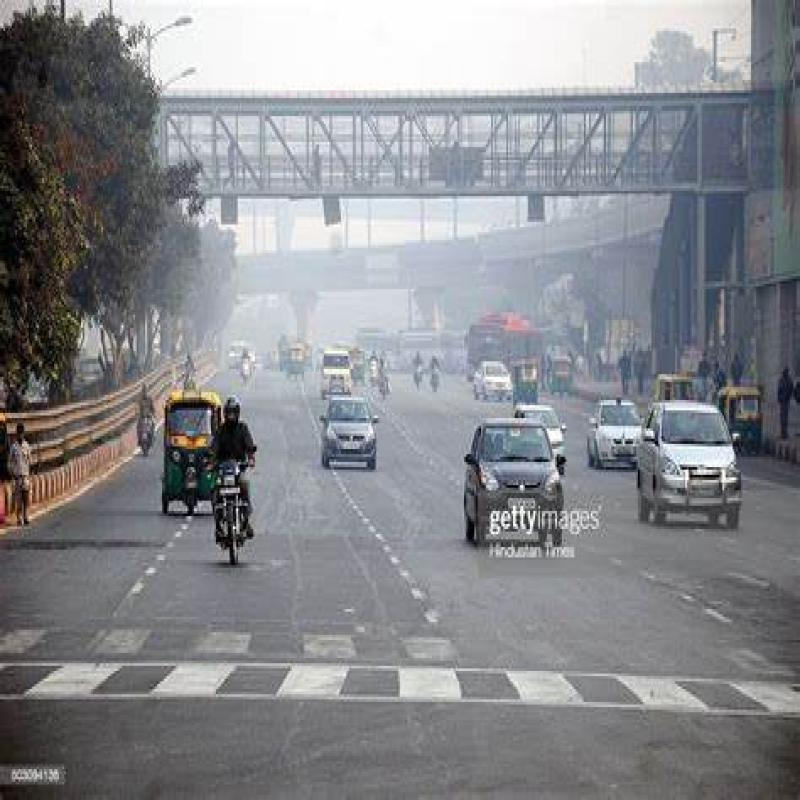auto: (160, 377, 213, 517)
bike: (212, 435, 252, 569)
car: (451, 419, 584, 566), (632, 393, 748, 533), (580, 378, 664, 492), (326, 393, 387, 471)
